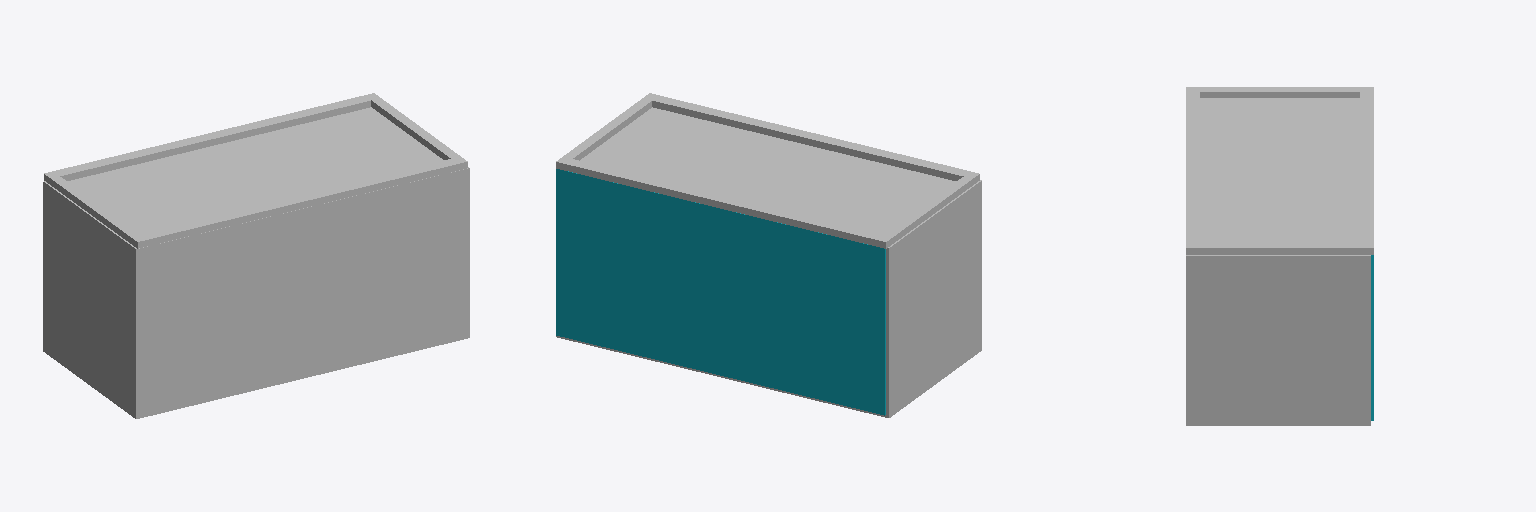
File: Linnmon.obj
3 views of the same model, side by side, from view 1: azimuth 30°, elevation 25°; view 2: azimuth 150°, elevation 25°; view 3: azimuth 270°, elevation 25° (orthographic).
Parts seen in each view (by area): view 1: Back.001_Cube.016, Lid.001_Cube.002, Right.001_Cube.019, Floor.001_Cube.001, Left.001_Cube.018; view 2: Front.001_Cube.017, Lid.001_Cube.002, Right.001_Cube.019, Floor.001_Cube.001; view 3: Left.001_Cube.018, Lid.001_Cube.002.
Boxes of the visible parts, box(x1,y1,x2,y2) form: Back.001_Cube.016: box(143, 170, 462, 410); Lid.001_Cube.002: box(44, 93, 467, 248); Right.001_Cube.019: box(43, 181, 142, 418); Floor.001_Cube.001: box(143, 333, 462, 417); Left.001_Cube.018: box(463, 167, 469, 339); Front.001_Cube.017: box(556, 169, 885, 415); Lid.001_Cube.002: box(556, 93, 979, 248); Right.001_Cube.019: box(883, 180, 981, 417); Floor.001_Cube.001: box(562, 337, 882, 416); Left.001_Cube.018: box(1186, 255, 1370, 425); Lid.001_Cube.002: box(1186, 87, 1373, 254).
Size of the model in its own units: 104 by 52.63 by 50.78.